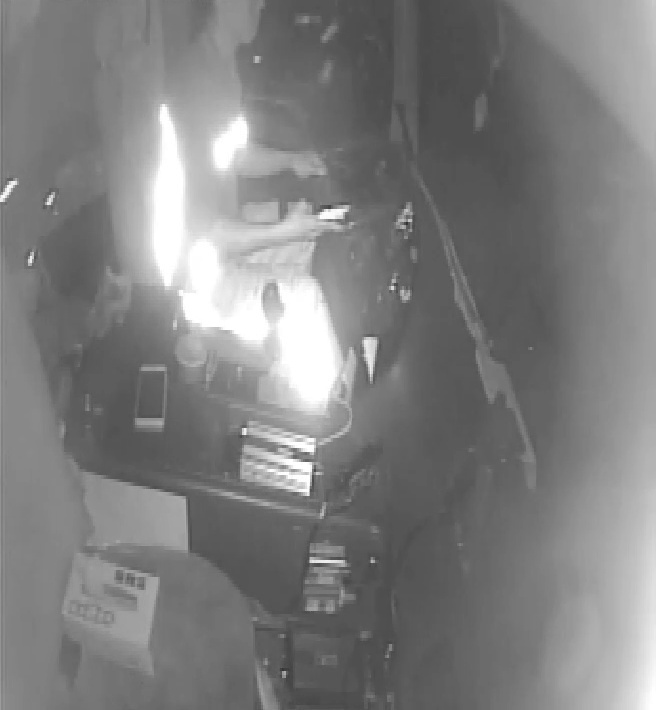cellphone: (296, 199, 361, 231)
